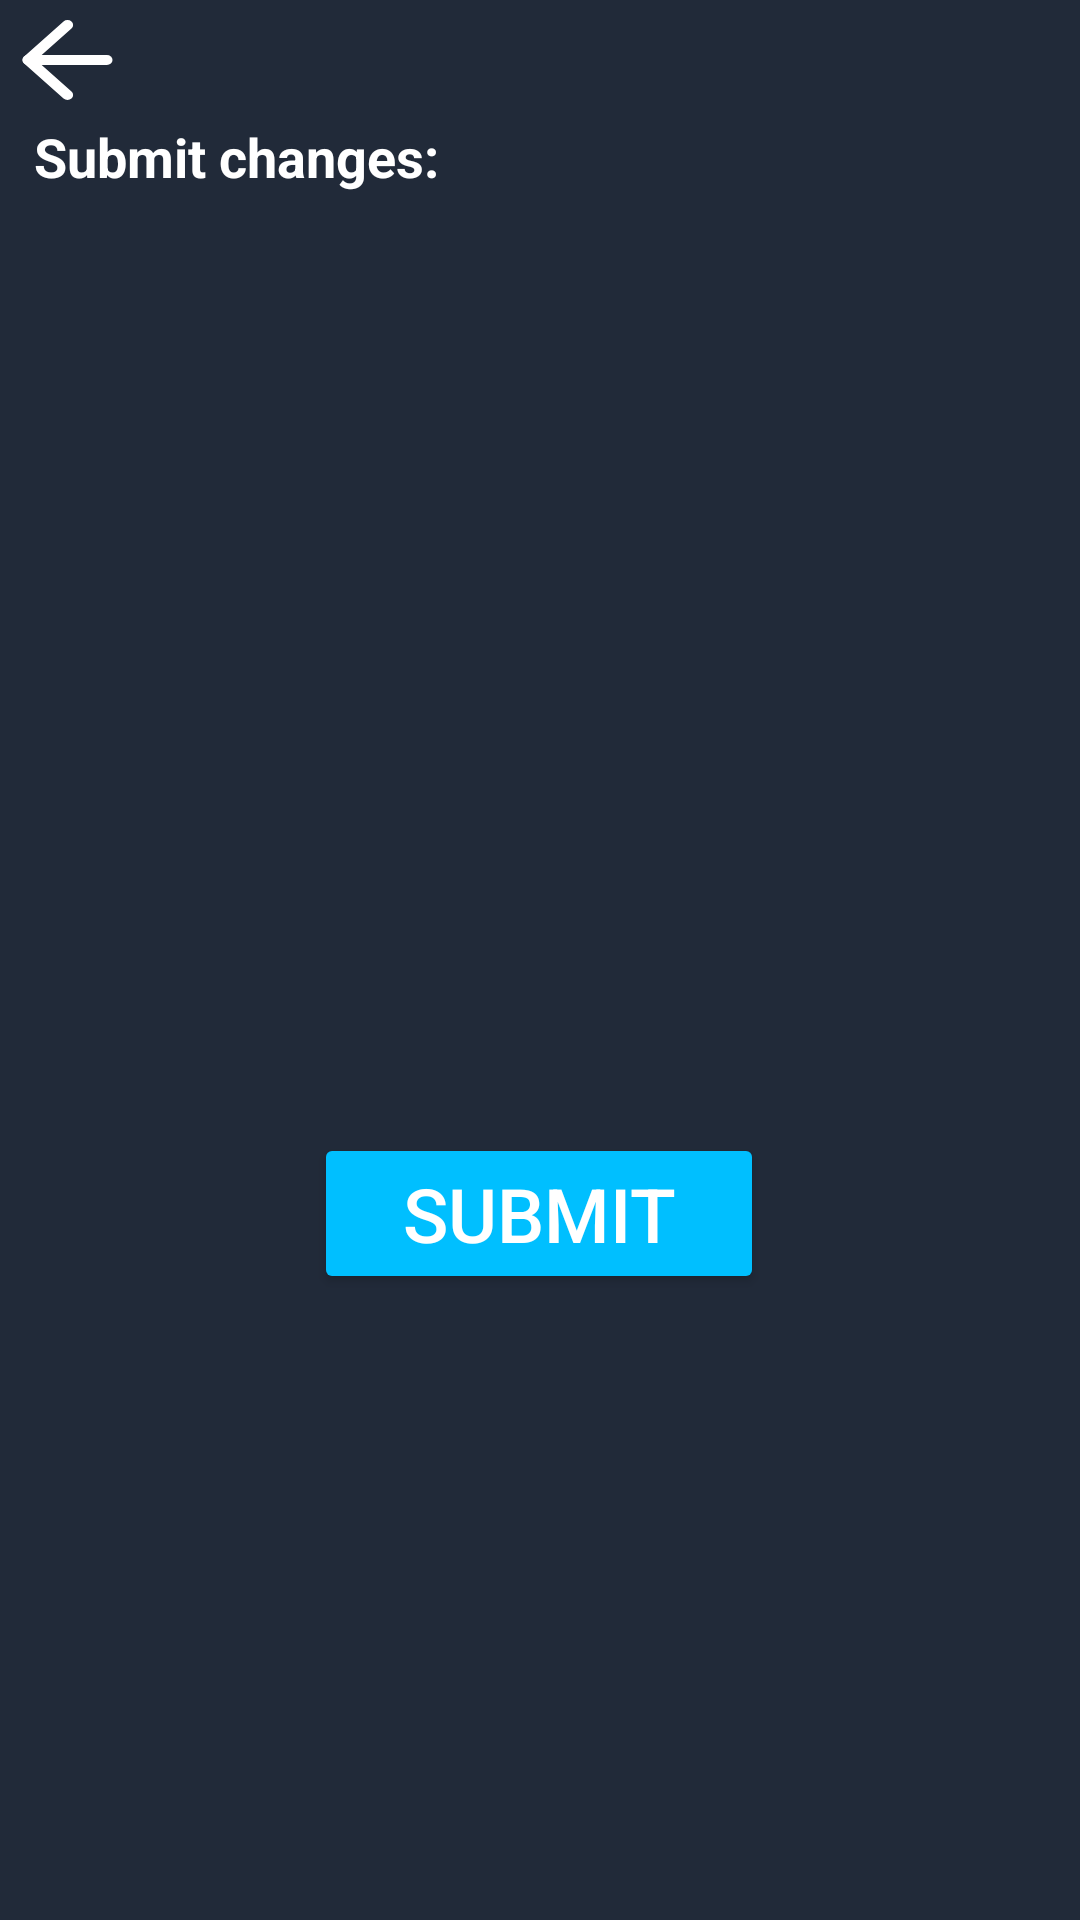

Screen size 1080×1920. Icon name, then its center in pixels as point (x, y):
arrow left: point (67, 60)
